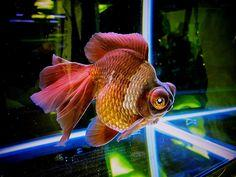goldfish: (49, 44, 184, 147)
